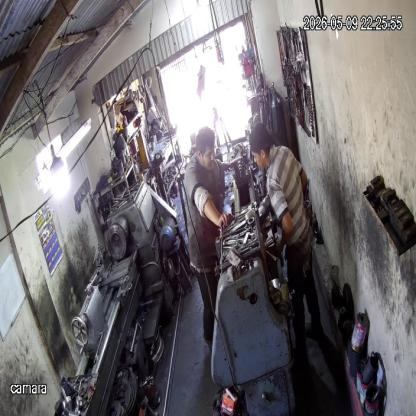sin_lentes: (202, 150, 216, 159)
